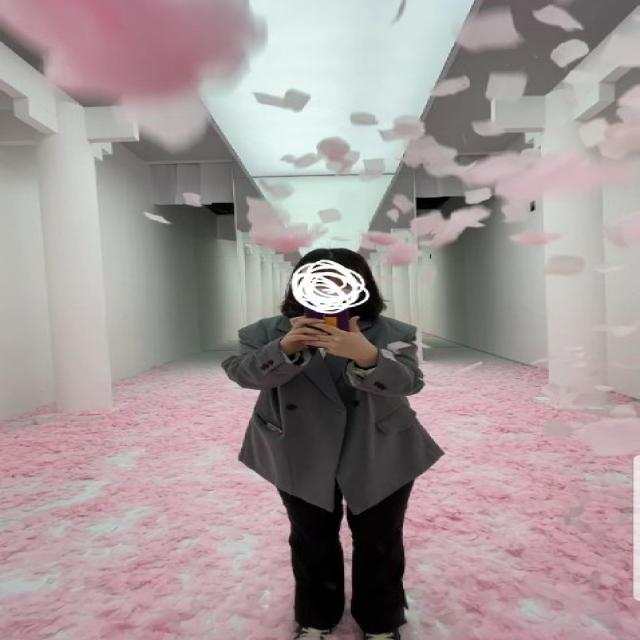blazer: (226, 311, 444, 513)
denimpants: (288, 439, 410, 636)
